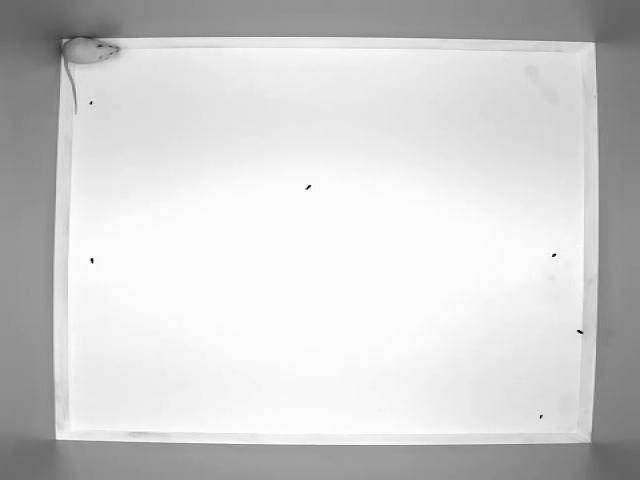Tikus: (63, 36, 121, 114)
